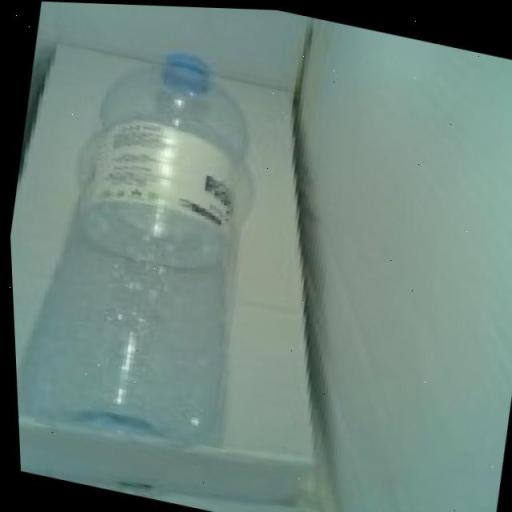plastic: (2, 24, 288, 477)
